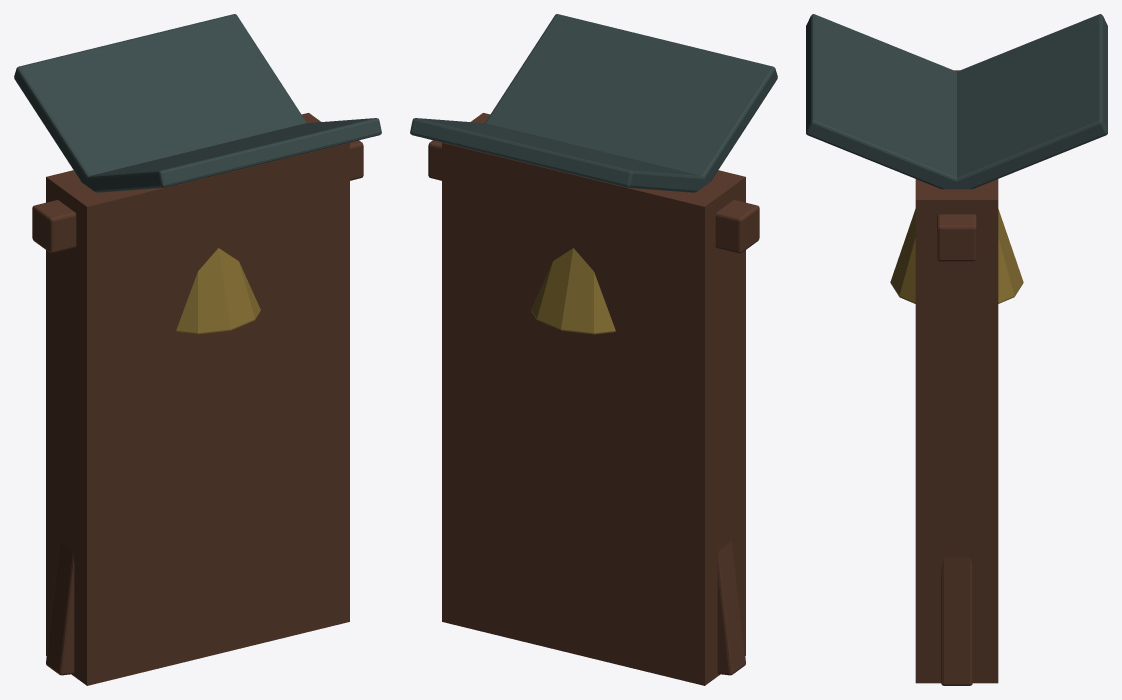
The model's file is env-bell-a.glb.
3 renders of one model, left to right at view 1: azimuth 30°, elevation 25°; view 2: azimuth 150°, elevation 25°; view 3: azimuth 270°, elevation 25°, orthographic.
Visible parts, largest first — view 1: COL_bell, VIS_cap_e, VIS_cap_w, VIS_bell, VIS_leg_w, VIS_beam; view 2: COL_bell, VIS_cap_w, VIS_cap_e, VIS_bell, VIS_leg_w, VIS_beam; view 3: COL_bell, VIS_cap_e, VIS_cap_w, VIS_leg_e, VIS_bell, VIS_beam.
Boxes of the visible parts, <box> form: COL_bell: <box>46,113,349,685</box>; VIS_cap_e: <box>14,14,306,191</box>; VIS_cap_w: <box>81,118,381,192</box>; VIS_bell: <box>176,248,260,334</box>; VIS_leg_w: <box>46,541,74,675</box>; VIS_beam: <box>32,140,363,253</box>; COL_bell: <box>442,113,745,685</box>; VIS_cap_w: <box>485,14,777,191</box>; VIS_cap_e: <box>410,118,710,192</box>; VIS_bell: <box>531,248,615,334</box>; VIS_leg_w: <box>717,541,745,675</box>; VIS_beam: <box>428,140,759,253</box>; COL_bell: <box>915,70,998,683</box>; VIS_cap_e: <box>943,14,1107,189</box>; VIS_cap_w: <box>806,14,970,189</box>; VIS_leg_e: <box>941,557,972,685</box>; VIS_bell: <box>890,209,1023,303</box>; VIS_beam: <box>937,214,976,261</box>.
Size of the model in its own units: 1.85 by 3.08 by 1.53.
